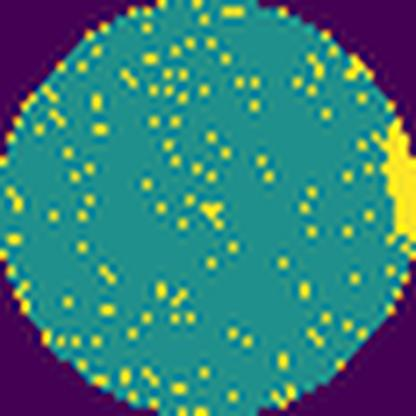Edge-Loc: (375, 110, 416, 258)
